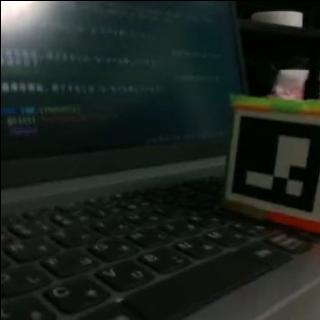armor: (223, 108, 320, 220)
robot: (223, 95, 320, 238)
